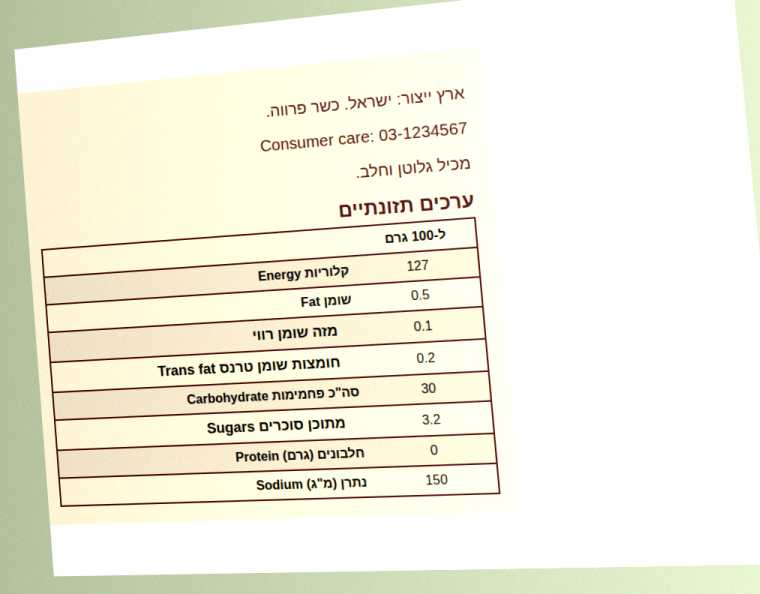carbs: (419, 379, 438, 398)
energy: (404, 256, 431, 275)
fat: (409, 286, 432, 304)
protein: (428, 441, 440, 459)
